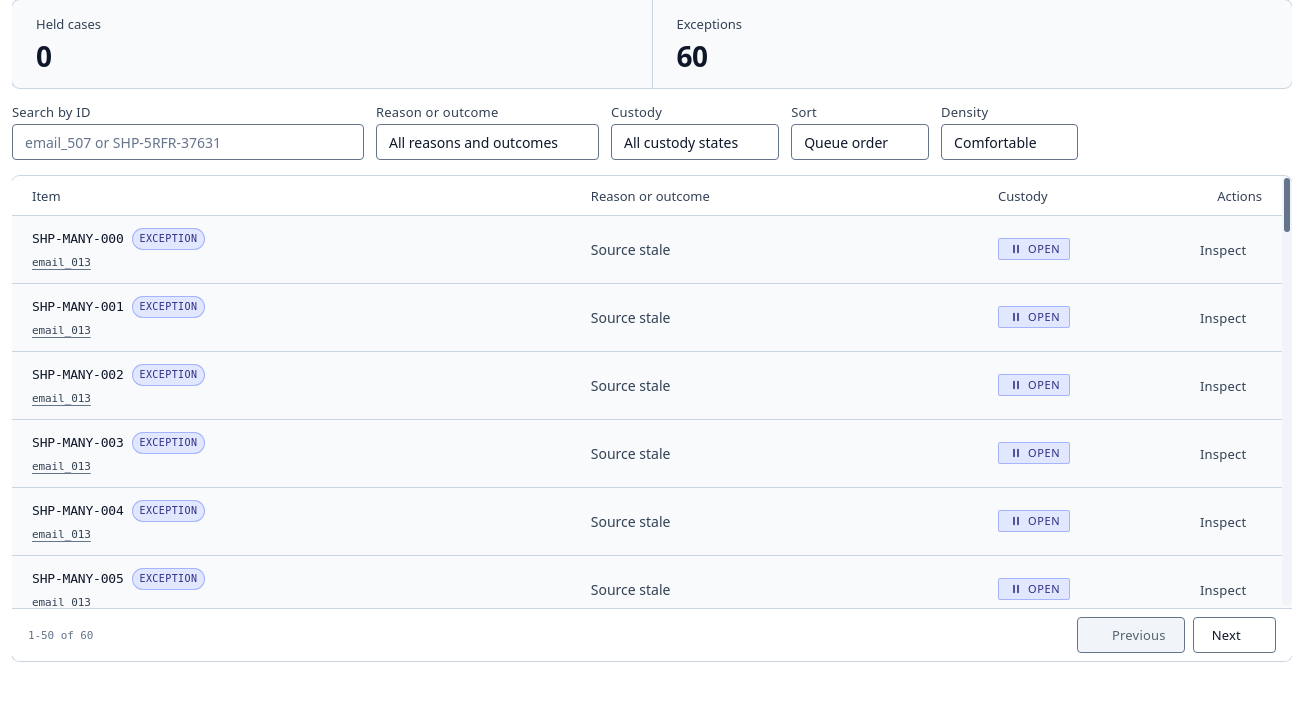
Test: ReviewQueueView › pages through the queue and closes the open detail with its page
This screenshot has width=1292, height=720.
Click the button with aria-label "Inspect Exception SHP-MANY-000".
click(1223, 250)  # box [1182, 232, 1264, 268]
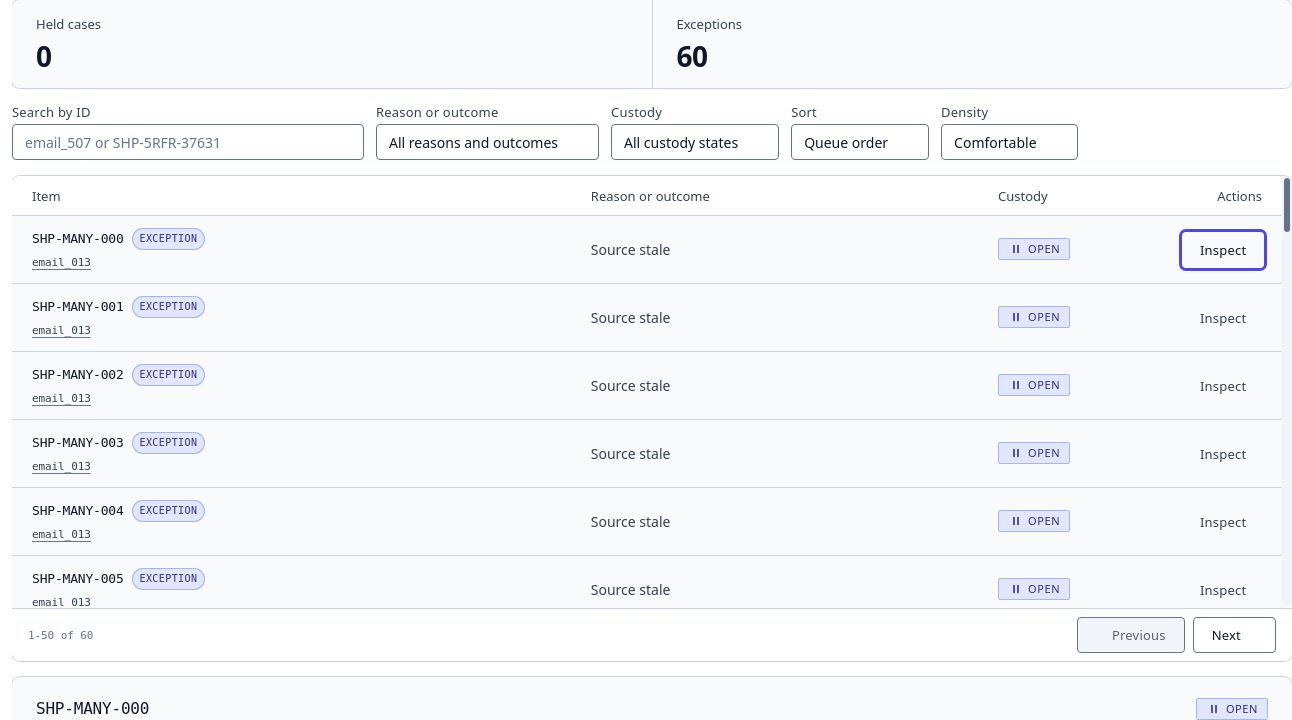
Click the button "Next".
click(1234, 635)  # box [1193, 617, 1276, 653]
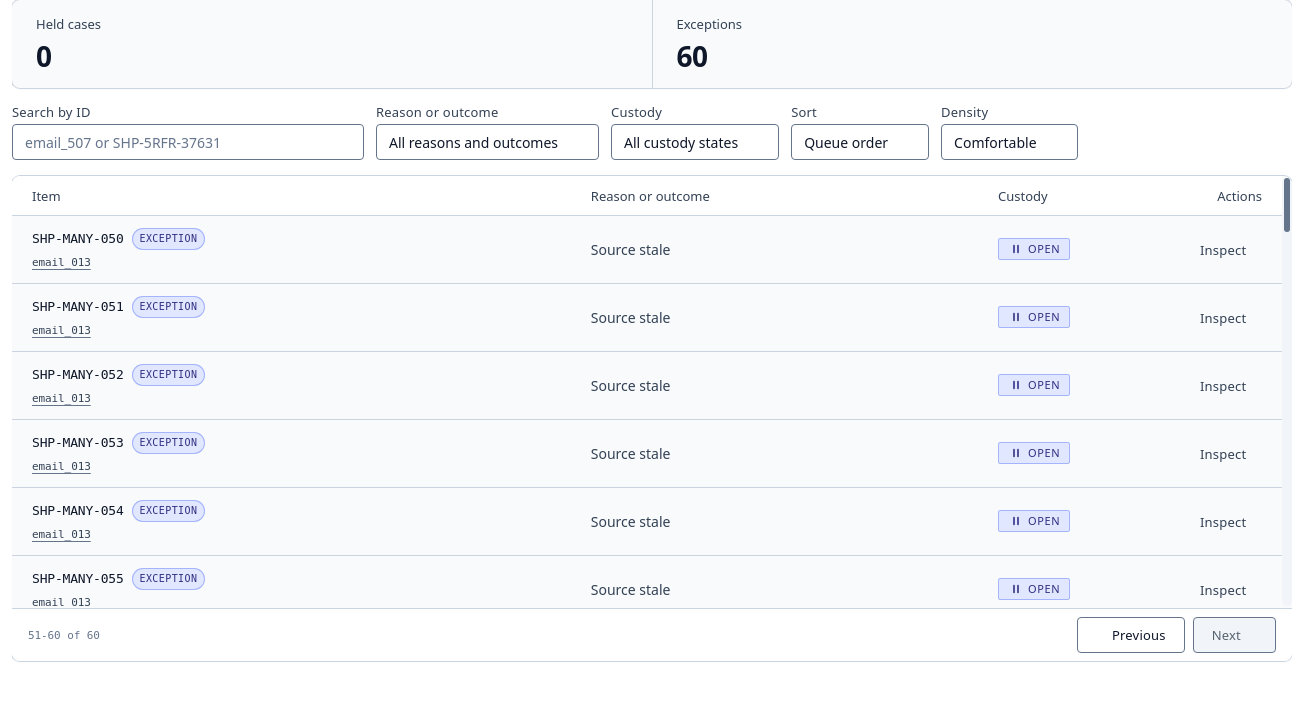
Now the button "Next" is disabled, box [1193, 617, 1276, 653]
